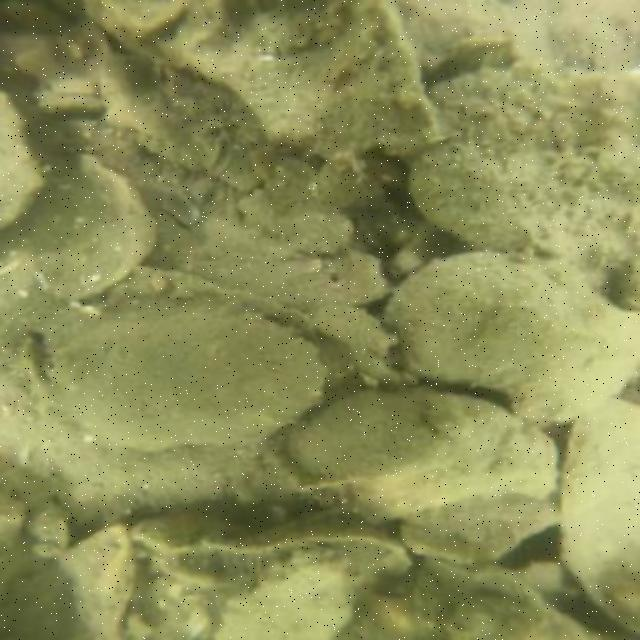Oyster-Closed: (405, 63, 638, 310), (381, 245, 638, 424), (43, 307, 321, 456), (338, 395, 571, 523), (290, 387, 457, 490), (0, 94, 51, 243)
Oyster-Open: (125, 502, 421, 601)
